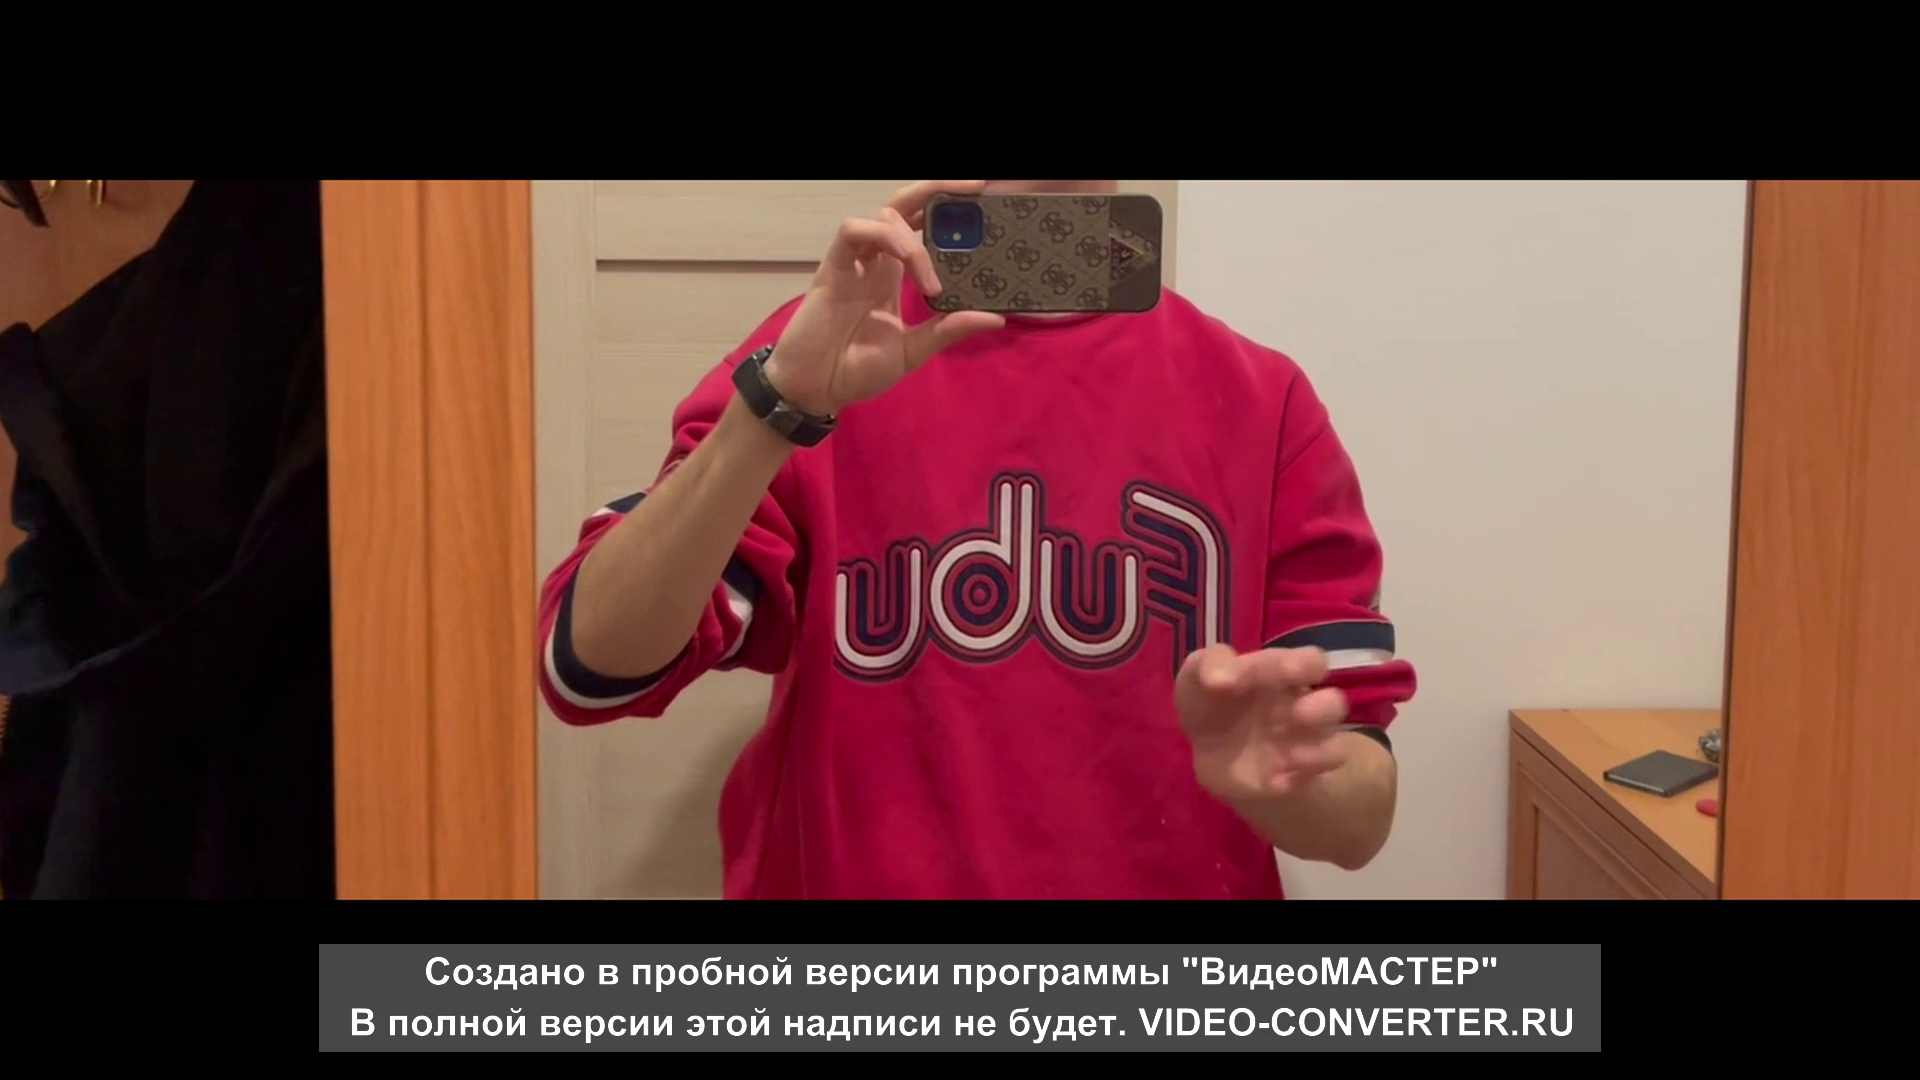Ладонь: (1171, 641, 1350, 802)
